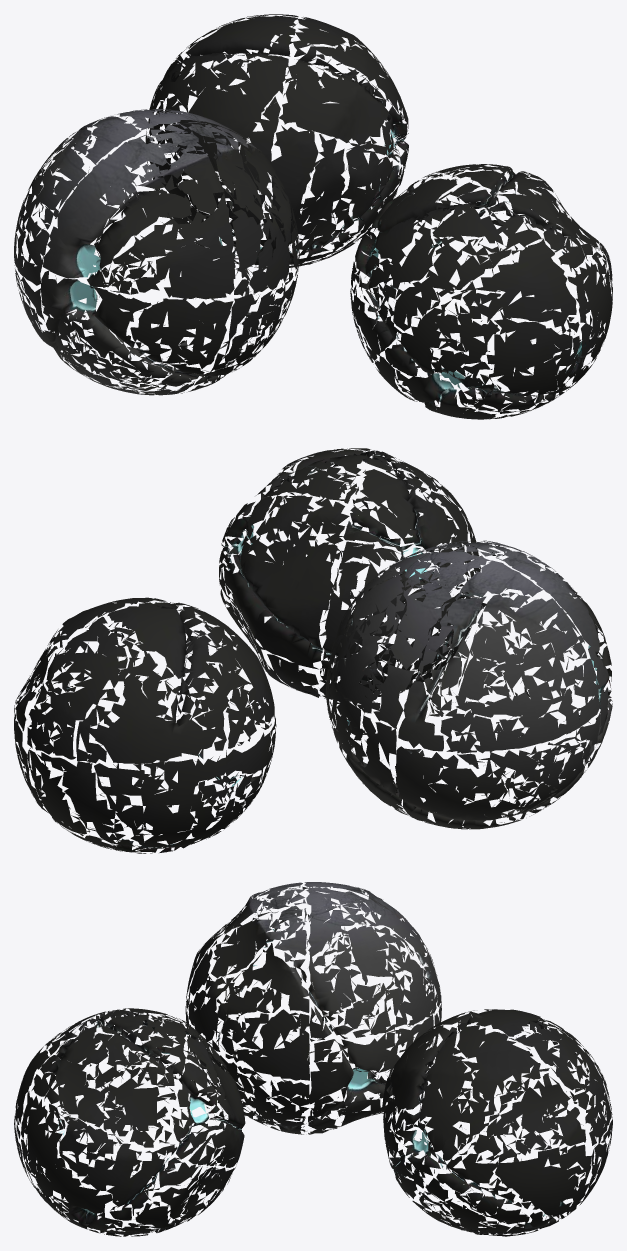
File: orbes-des-anciens.glb
The picture shows the model from 3 angles, top to bottom: view 1: azimuth 30°, elevation 25°; view 2: azimuth 150°, elevation 25°; view 3: azimuth 270°, elevation 25°; orthographic projection. The views are drawn at different scales.
Visible parts, largest first — view 1: tripo_node_23aad589-9f6a-4670-ab2d-1706407e72b9_0; view 2: tripo_node_23aad589-9f6a-4670-ab2d-1706407e72b9_0; view 3: tripo_node_23aad589-9f6a-4670-ab2d-1706407e72b9_0.
Part boxes in pixels (x1=…): tripo_node_23aad589-9f6a-4670-ab2d-1706407e72b9_0: x1=14, y1=14, x2=612, y2=419; tripo_node_23aad589-9f6a-4670-ab2d-1706407e72b9_0: x1=14, y1=448, x2=612, y2=853; tripo_node_23aad589-9f6a-4670-ab2d-1706407e72b9_0: x1=14, y1=882, x2=612, y2=1236.
Size of the model in its own units: 0.791 by 0.4094 by 0.9997.
1 material, 1 textured.
